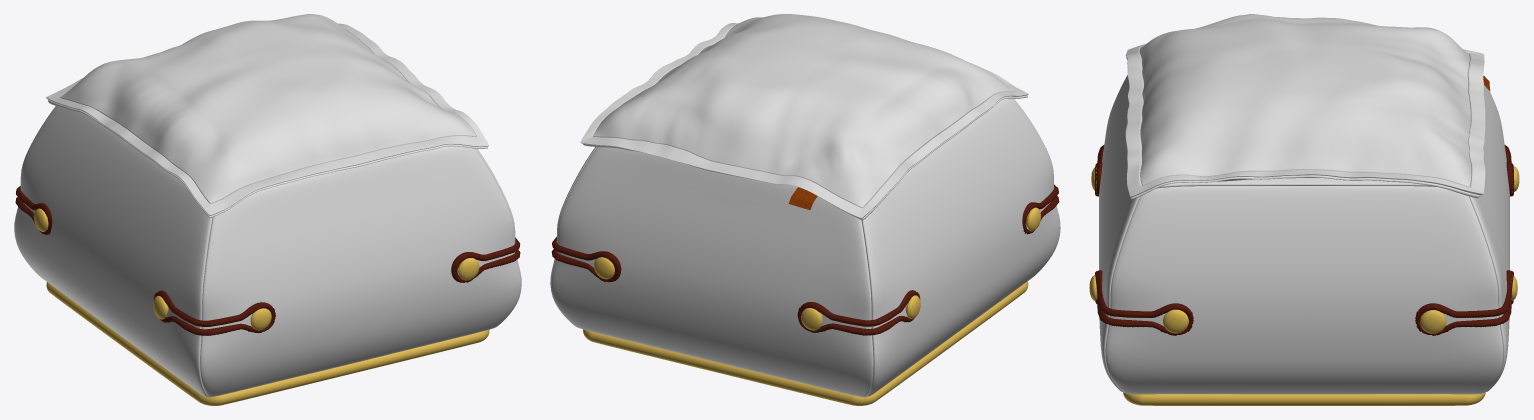
File: SLN_GRAND_THEORY.glb
3 renders of one model, left to right at view 1: azimuth 30°, elevation 25°; view 2: azimuth 150°, elevation 25°; view 3: azimuth 270°, elevation 25°, orthographic. The views are drawn at different scales.
Visible parts, largest first — view 1: GRAND_THEORY; view 2: GRAND_THEORY; view 3: GRAND_THEORY.
Part boxes in pixels (x1,y1,x2,y2): GRAND_THEORY: (14,14,521,405); GRAND_THEORY: (550,14,1060,405); GRAND_THEORY: (1089,14,1519,405).
Size of the model in its own units: 0.8226 by 0.5802 by 0.8267.
